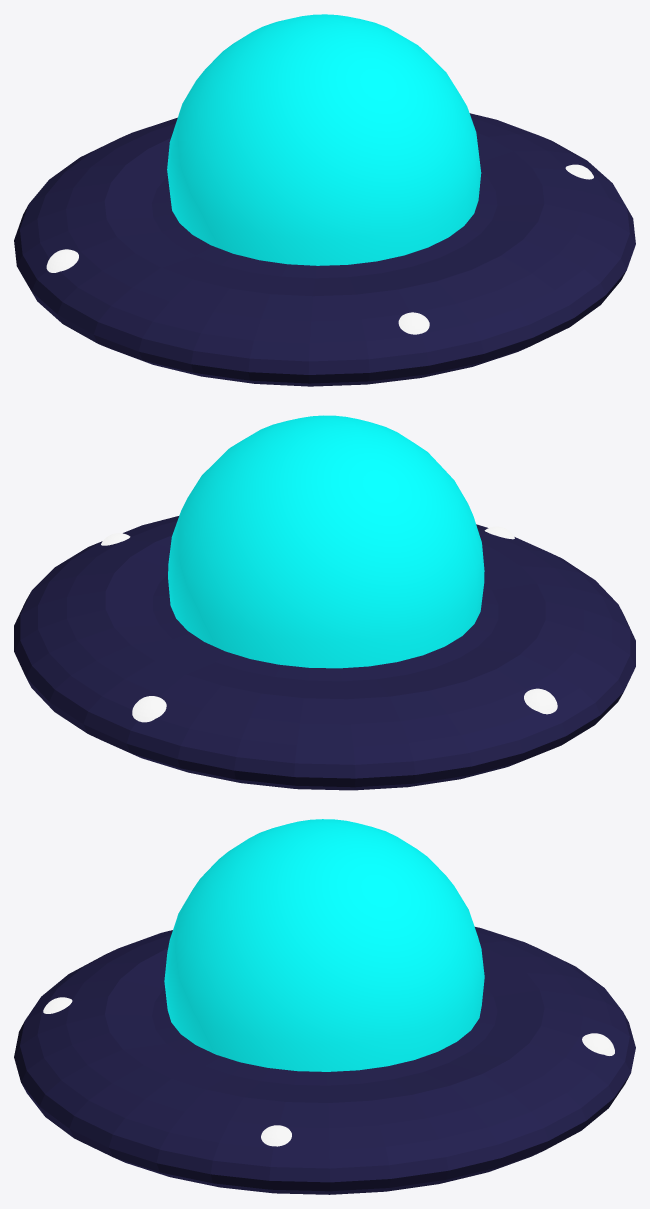
Rendered from ufoLightrot4.glb.
The picture shows the model from 3 angles, top to bottom: view 1: azimuth 30°, elevation 25°; view 2: azimuth 150°, elevation 25°; view 3: azimuth 270°, elevation 25°; orthographic projection.
Visible parts, largest first — view 1: Torus.001; view 2: Torus.001; view 3: Torus.001.
Part boxes in pixels (box(x1,y1,x2,y2)): Torus.001: box(14, 14, 635, 386); Torus.001: box(14, 415, 635, 790); Torus.001: box(14, 819, 635, 1194).
Size of the model in its own units: 7.34 by 3.62 by 7.18.
Materials: 8 (3 with a texture image).
